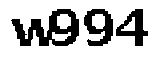4: (115, 6, 153, 51)
9: (48, 7, 81, 52), (82, 6, 113, 50)
w: (7, 15, 53, 50)
